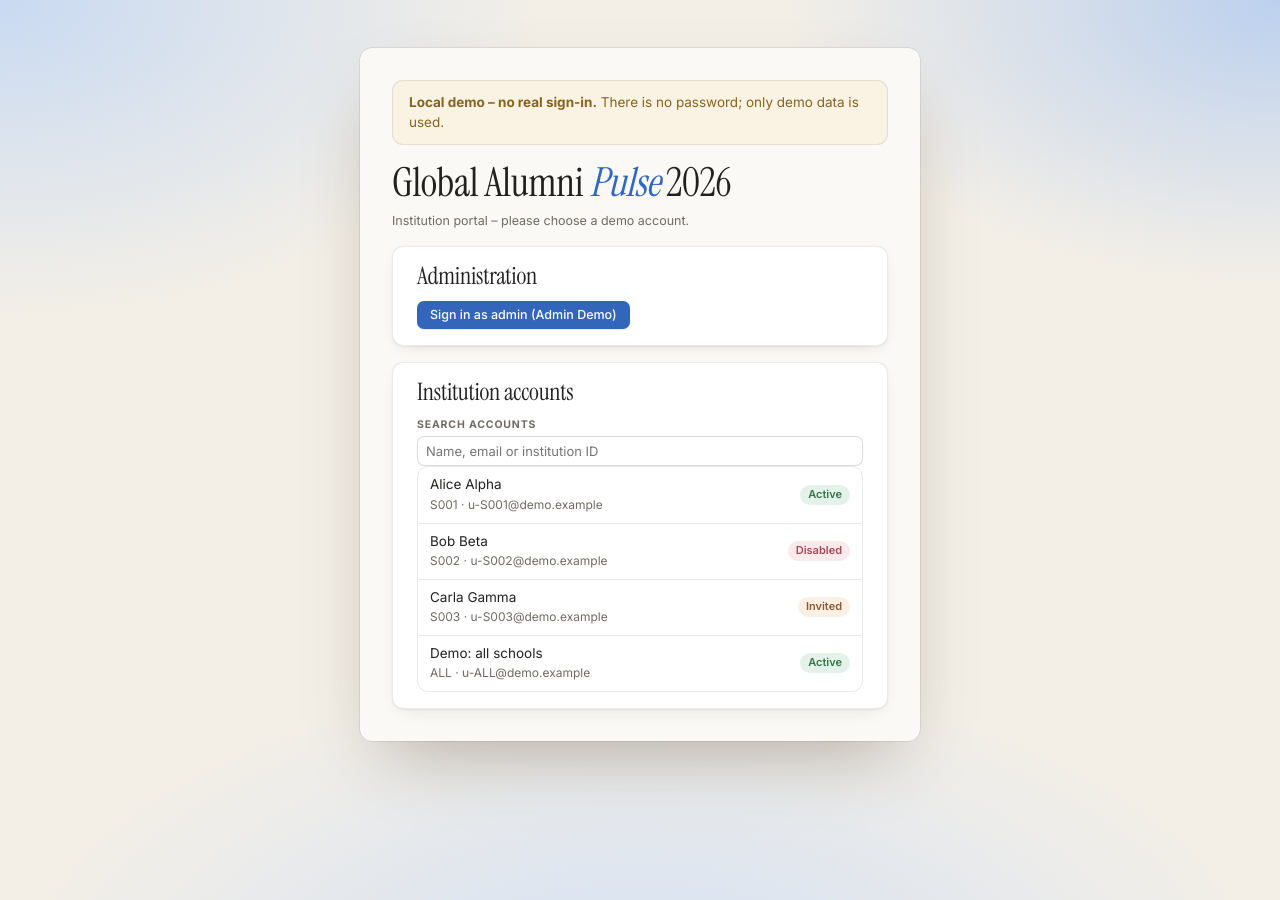
Test case: Login › zeigt bei eingeladenem Account "Noch nicht freigeschaltet"
The image size is (1280, 900).
Click the button "Carla Gamma".
click(473, 597)  # box left=418, top=580, right=862, bottom=635
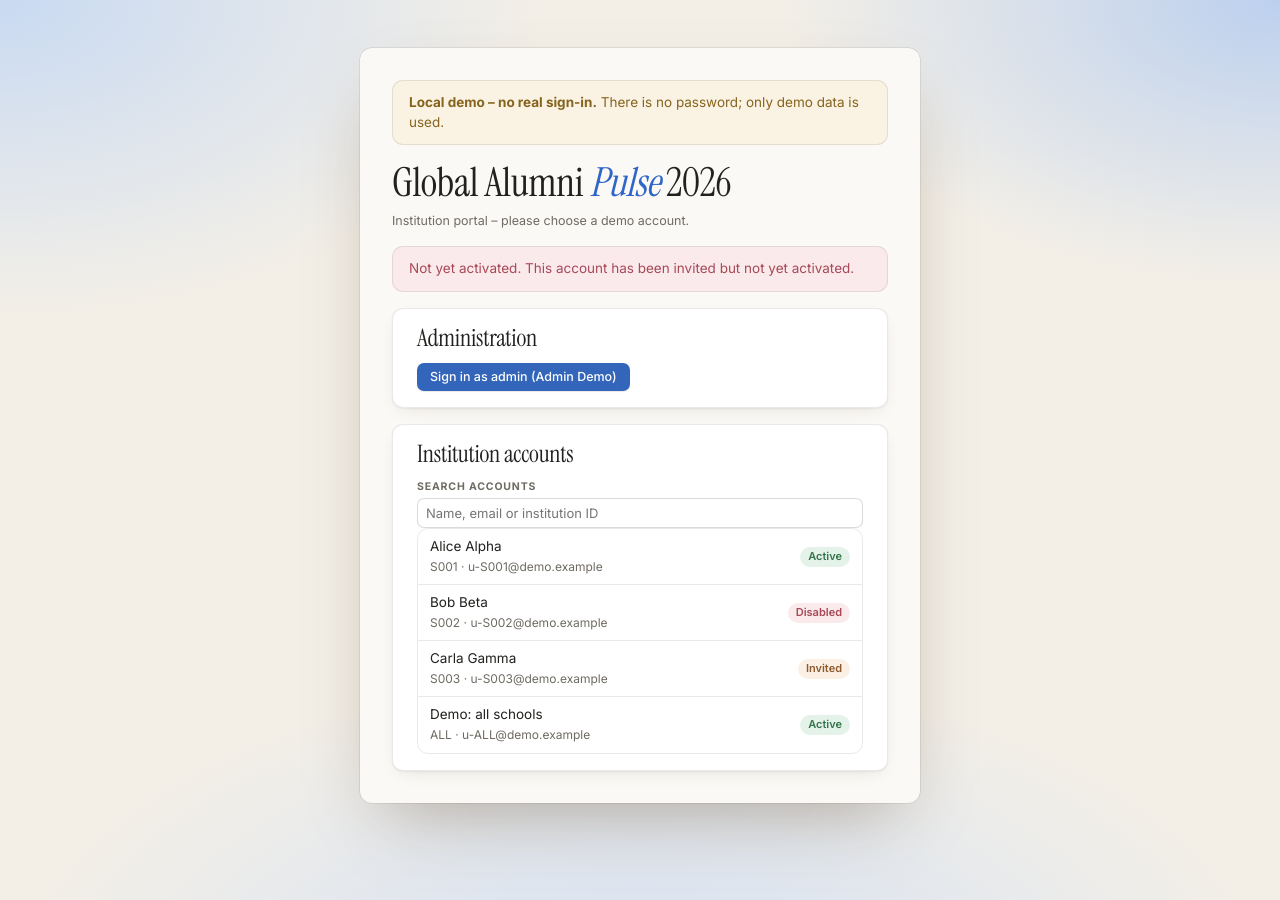
Expected: the message shows "Not yet activated", left=409, top=260, right=854, bottom=276
